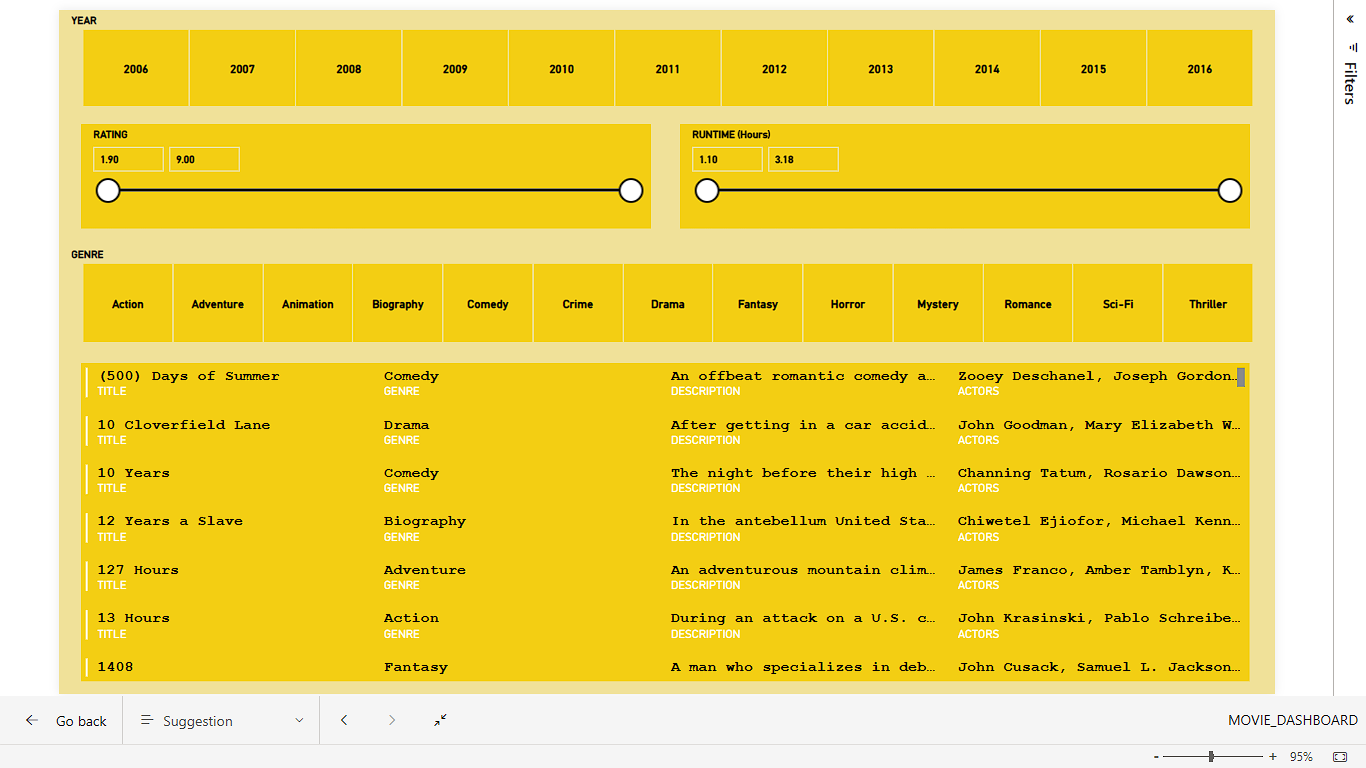

Layout of this report page (visuals, bound fields, positions):
{"tool":"powerbi","page":{"name":"Suggestion","canvas":[1280,720],"ordinal":2},"visuals":[{"type":"slicer","fields":{"Values":["IMDb Movie.YEAR"]},"box":[0,0,1280,108],"z":0},{"type":"slicer","fields":{"Values":["IMDb Movie.RATING"]},"box":[23.3,120,600,110],"z":1000},{"type":"multiRowCard","fields":{"Values":["IMDb Movie.TITLE","IMDb Movie.GENRE","IMDb Movie.DESCRIPTION","IMDb Movie.ACTORS"]},"box":[23.3,371.7,1230,335],"z":2000},{"type":"slicer","fields":{"Values":["IMDb Movie.RUNTIME (Hours)"]},"box":[653.3,120,600,110],"z":3000},{"type":"slicer","fields":{"Values":["IMDb Movie.GENRE"]},"box":[0,246.7,1280,110],"z":4000}]}

Visuals, with their boxes on the page's 1280x720 design canvas (x1, y1, x2, y2). These are canvas units, not pixel positions in the 1366x768 screenshot, which may show the page scaled, cropped or inside an application window:
slicer - IMDb Movie.YEAR: [0, 0, 1280, 108]
slicer - IMDb Movie.RATING: [23, 120, 623, 230]
multiRowCard - IMDb Movie.TITLE x IMDb Movie.GENRE: [23, 372, 1253, 707]
slicer - IMDb Movie.RUNTIME (Hours): [653, 120, 1253, 230]
slicer - IMDb Movie.GENRE: [0, 247, 1280, 357]
